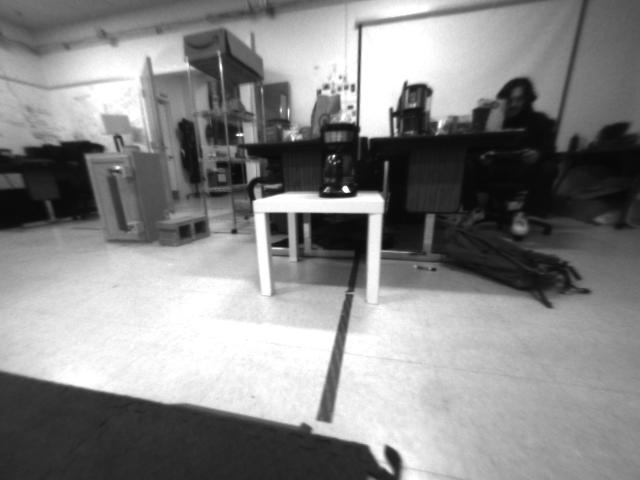coffee_pot: (315, 119, 360, 200)
